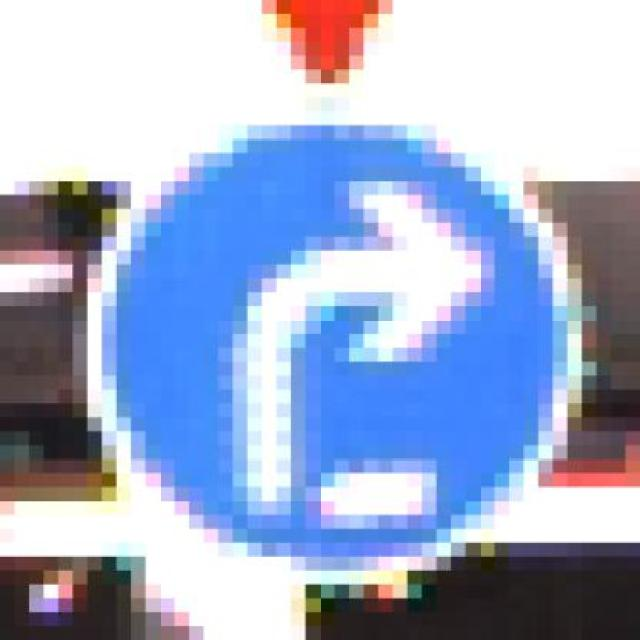Turn right ahead: (72, 97, 597, 585)
